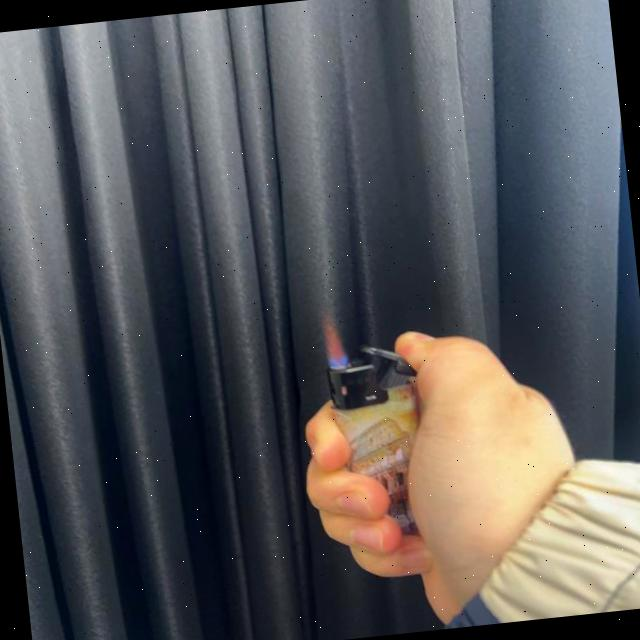fire: (316, 302, 352, 370)
